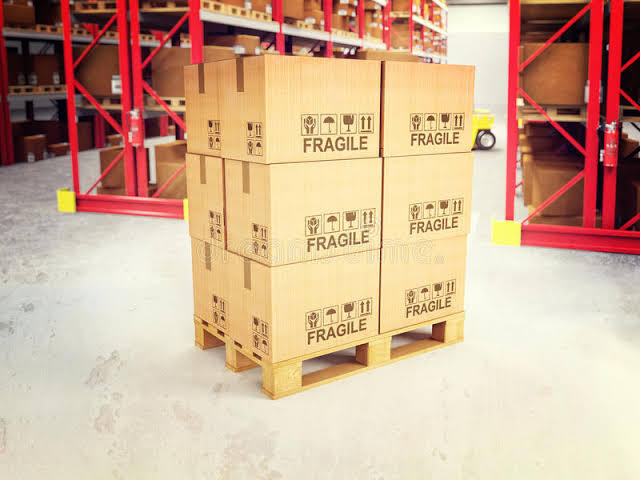box: (270, 158, 382, 267), (266, 56, 381, 162), (270, 246, 380, 354), (383, 60, 475, 154), (377, 243, 470, 334), (382, 149, 473, 240), (223, 153, 269, 270), (219, 53, 268, 162), (224, 252, 271, 356), (183, 155, 223, 250), (188, 237, 228, 330), (181, 61, 219, 157)
pallet: (191, 306, 470, 401)
